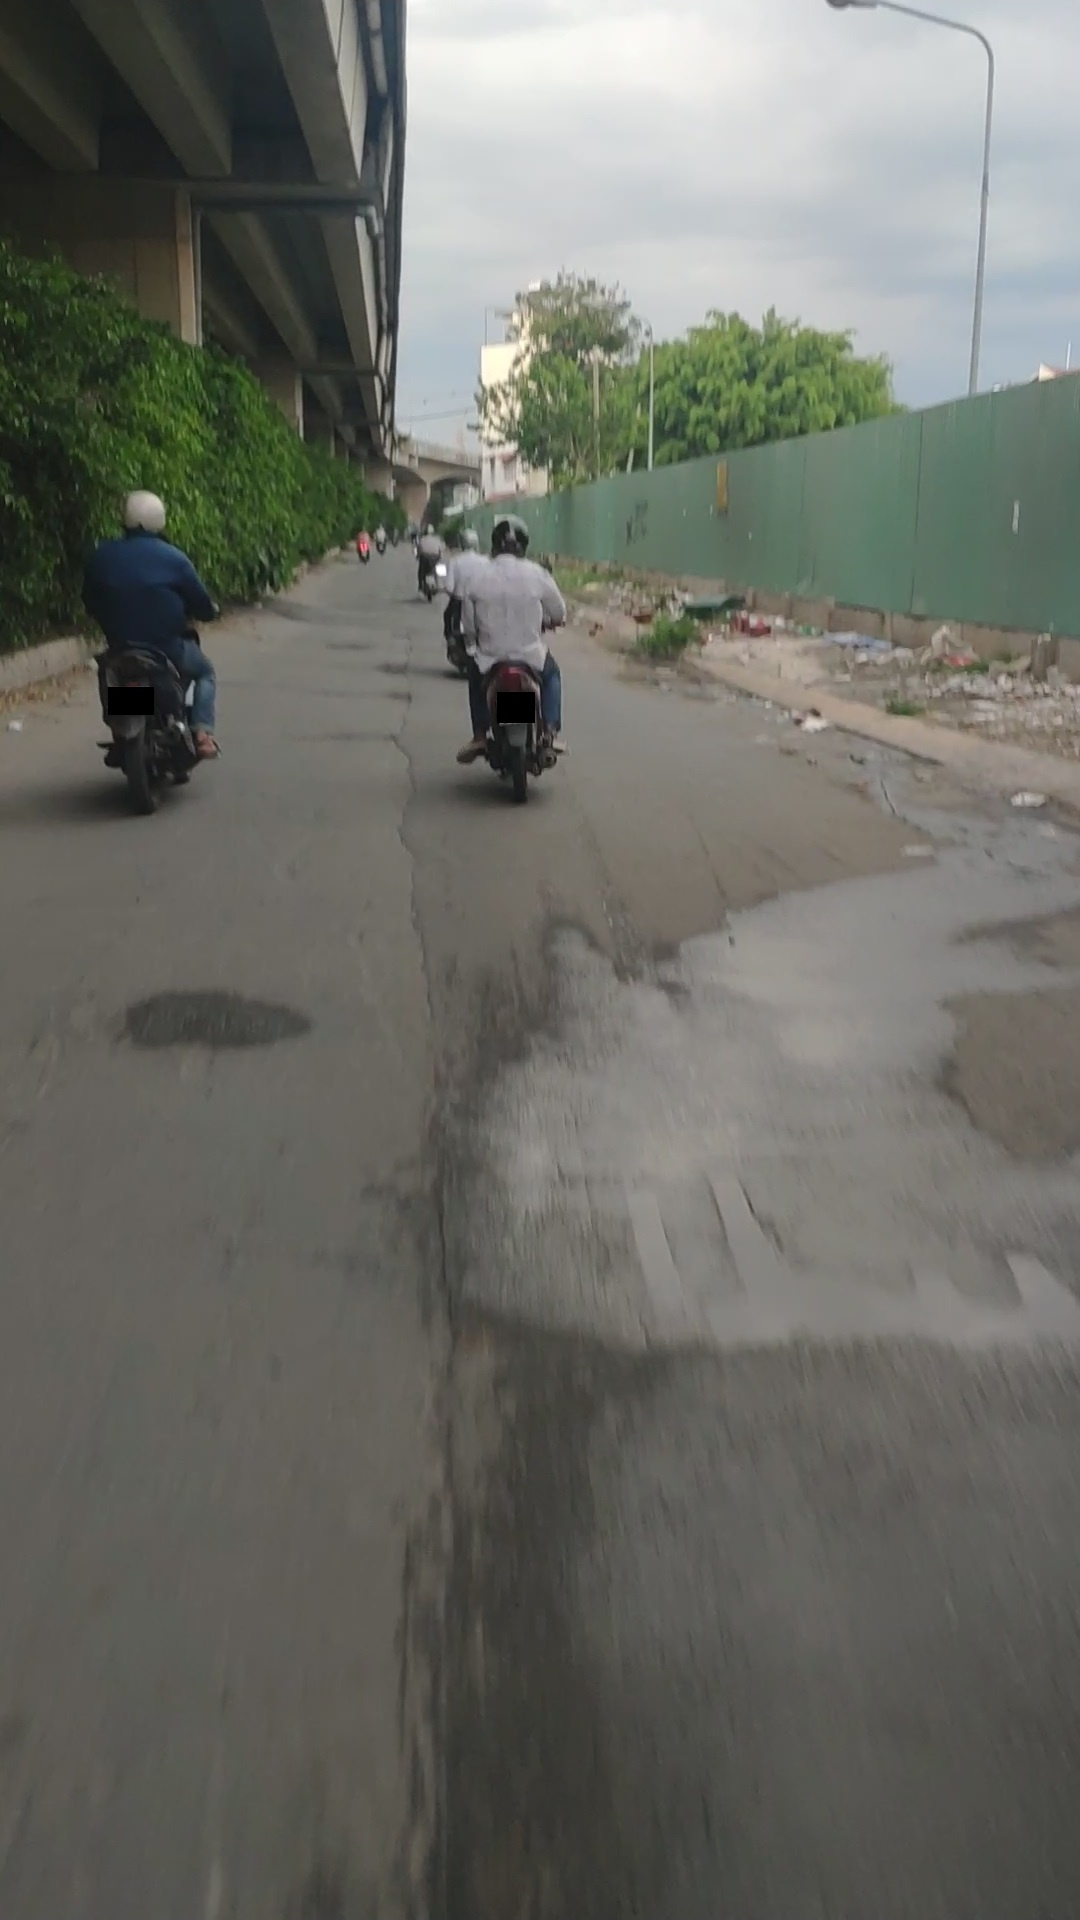hole: (609, 1180, 717, 1360), (703, 1158, 816, 1298), (997, 1237, 1080, 1354), (899, 1249, 978, 1303)
